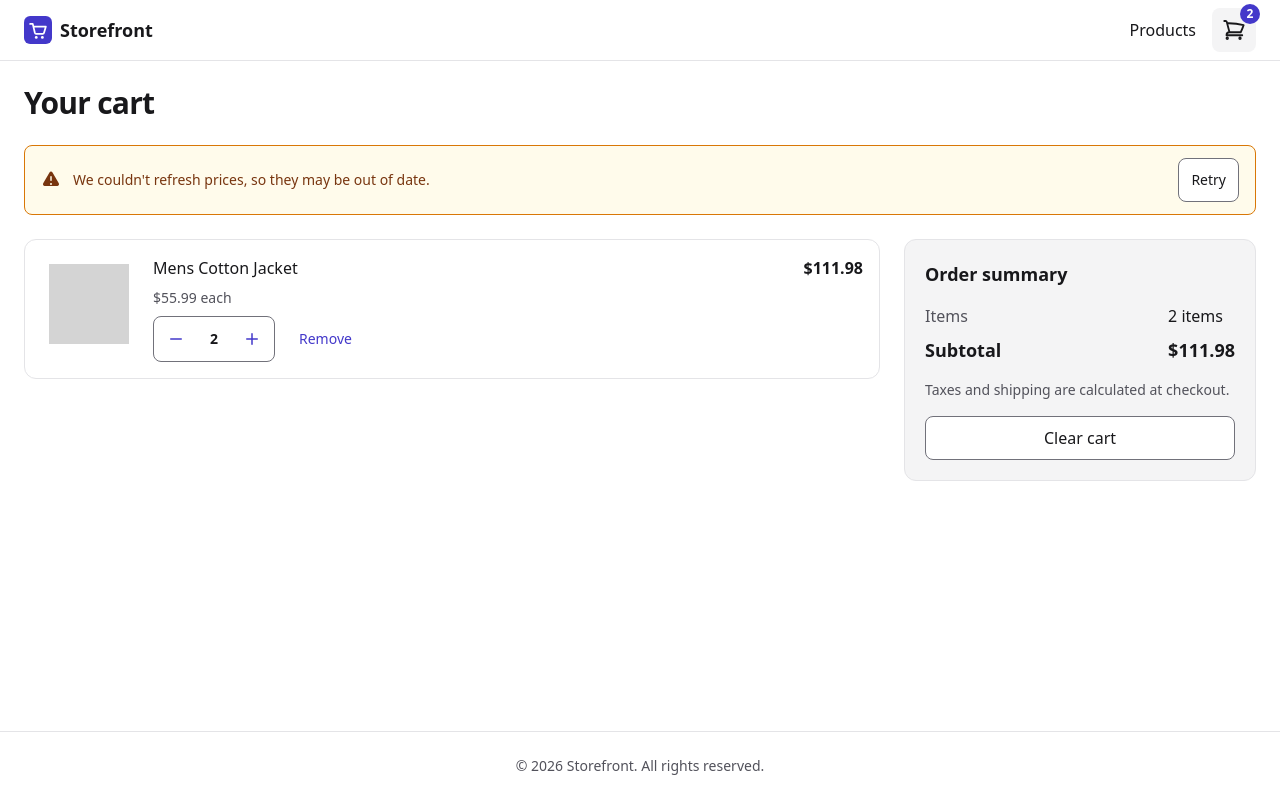
Test: Cart page › still renders from snapshots with a banner when prices cannot be refreshed
expect the text "We couldn't refresh prices, so they may be out of date." is shown: met, box [73, 170, 430, 189]
Click the button "Retry" at (1209, 180), box [1178, 158, 1239, 202]
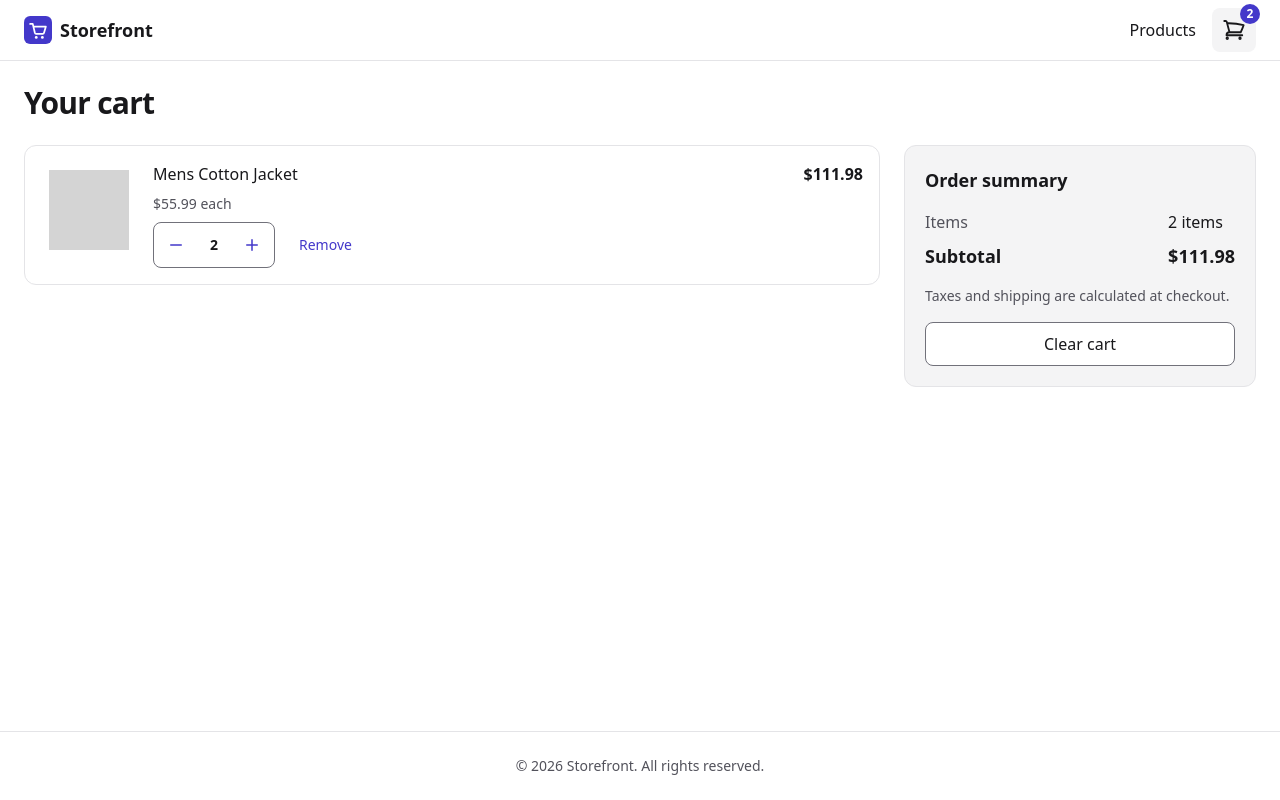
expect the text "couldn't refresh prices" is gone: met
